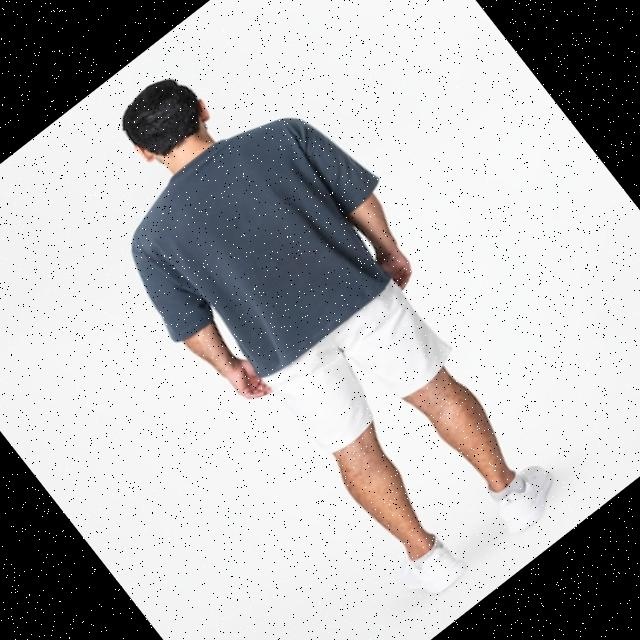Person: (45, 9, 608, 628)
